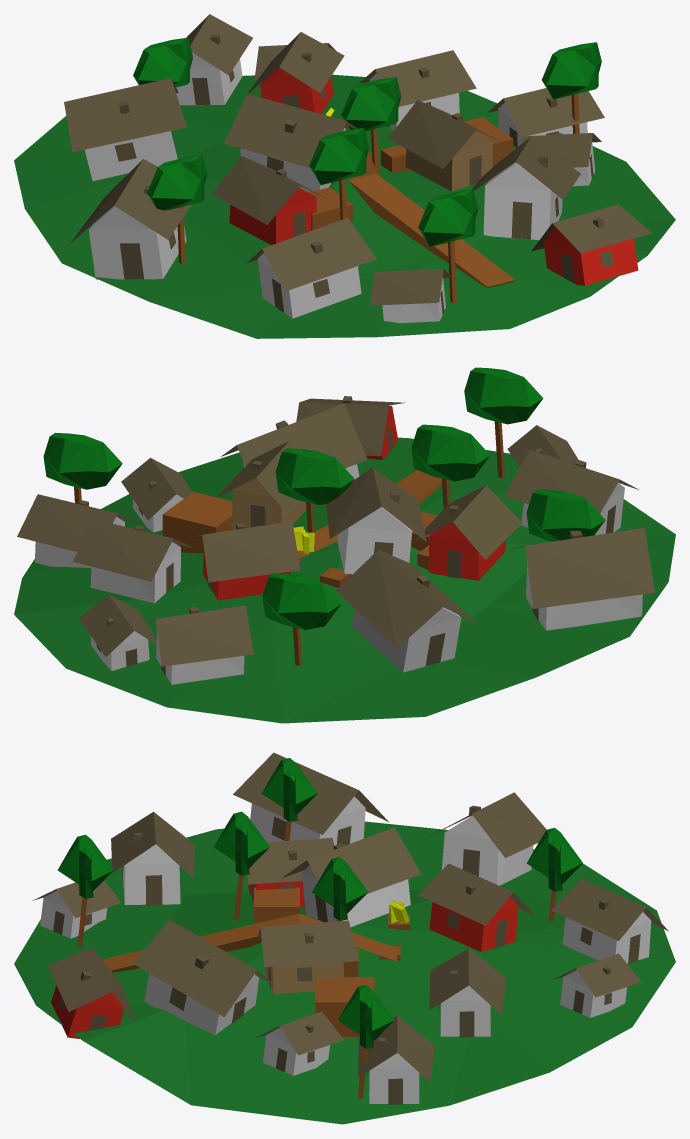
The model's file is city_1.dae.
3 renders of one model, top to bottom at view 1: azimuth 30°, elevation 25°; view 2: azimuth 150°, elevation 25°; view 3: azimuth 270°, elevation 25°, orthographic. The views are drawn at different scales.
Parts seen in each view (by area): view 1: Grass, Plane_002, Plane_005, Plane, Plane_003, Plane_011, Plane_010, Plane_009, Plane_008, Plane_007, Plane_004, Crate_006 (+14 smaller); view 2: Grass, Plane_005, Plane_002, Plane_011, Plane_001, Plane_004, Plane_008, Plane_007, Plane, Plane_012, Plane_003, Plane_009 (+12 smaller); view 3: Grass, Plane_003, Plane_005, Plane_002, Plane_011, Plane_007, Plane_004, Plane, Plane_009, Plane_001, Plane_010, Plane_012 (+13 smaller).
Boxes of the visible parts, box(x1,y1,x2,y2) form: Grass: box(14, 74, 675, 338); Plane_002: box(64, 78, 186, 180); Plane_005: box(70, 159, 191, 279); Plane: box(246, 217, 376, 318); Plane_003: box(472, 137, 580, 240); Plane_011: box(223, 94, 366, 192); Plane_010: box(531, 204, 651, 285); Plane_009: box(388, 100, 503, 191); Plane_008: box(212, 156, 330, 245); Plane_007: box(246, 32, 344, 113); Plane_004: box(176, 14, 252, 105); Crate_006: box(348, 149, 515, 288); Grass: box(14, 437, 675, 723); Plane_005: box(506, 528, 654, 630); Plane_002: box(335, 550, 478, 672); Plane_011: box(325, 467, 426, 574); Plane_001: box(73, 519, 194, 603); Plane_004: box(143, 605, 253, 684); Plane_008: box(413, 485, 522, 580); Plane_007: box(188, 521, 300, 600); Plane: box(504, 449, 638, 535); Plane_012: box(17, 494, 138, 567); Plane_003: box(221, 403, 367, 479); Plane_009: box(216, 441, 306, 529); Grass: box(14, 821, 675, 1124); Plane_003: box(132, 920, 277, 1035); Plane_005: box(233, 752, 389, 845); Plane_002: box(425, 792, 546, 885); Plane_011: box(281, 827, 421, 927); Plane_007: box(418, 863, 535, 951); Plane_004: box(551, 879, 668, 963); Plane: box(111, 811, 195, 905); Plane_009: box(257, 920, 358, 994); Plane_001: box(429, 948, 505, 1037); Plane_010: box(47, 947, 136, 1038); Plane_012: box(358, 1015, 434, 1104).
Size of the model in its own units: 4.1 by 4.21 by 1.02.
